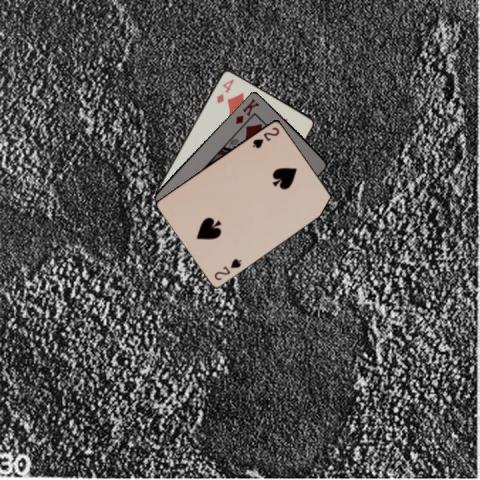2s: (211, 255, 243, 282), (249, 124, 281, 149)
4d: (214, 76, 236, 105)
Kd: (232, 96, 260, 126)
